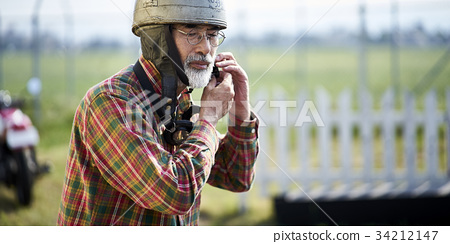helmet: (128, 2, 229, 33)
